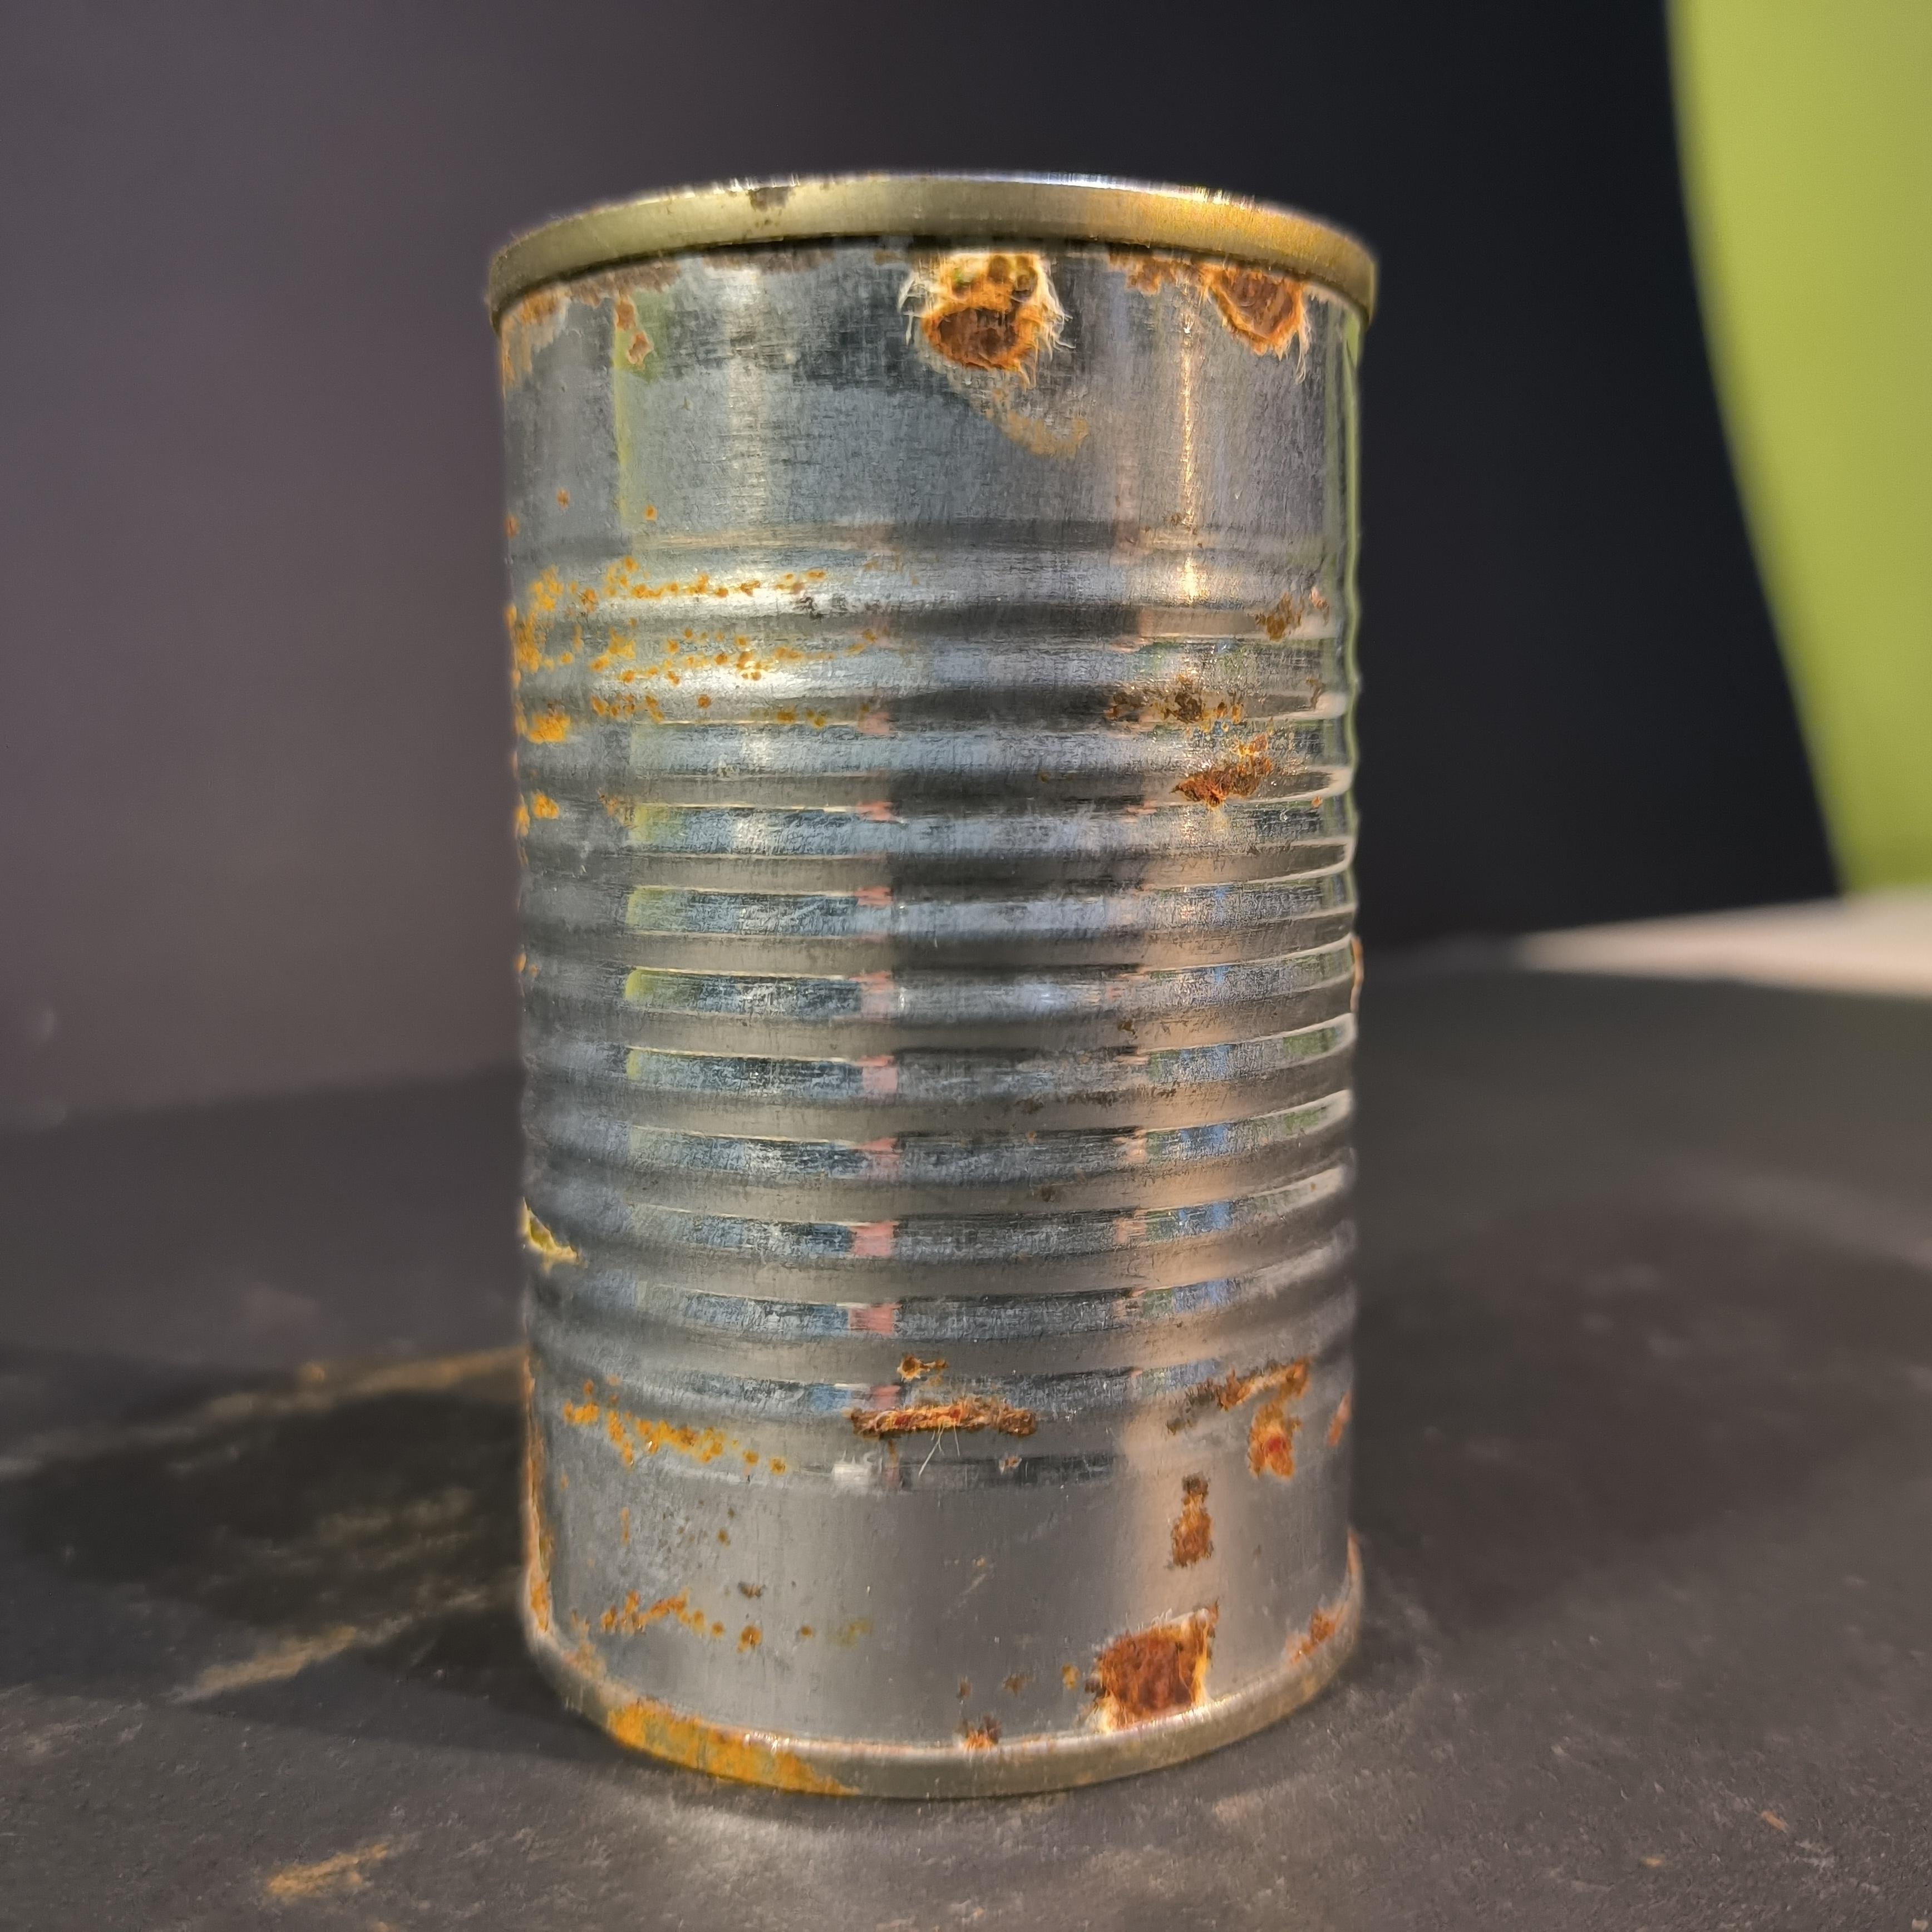Rusted: (467, 156, 1415, 1813)
